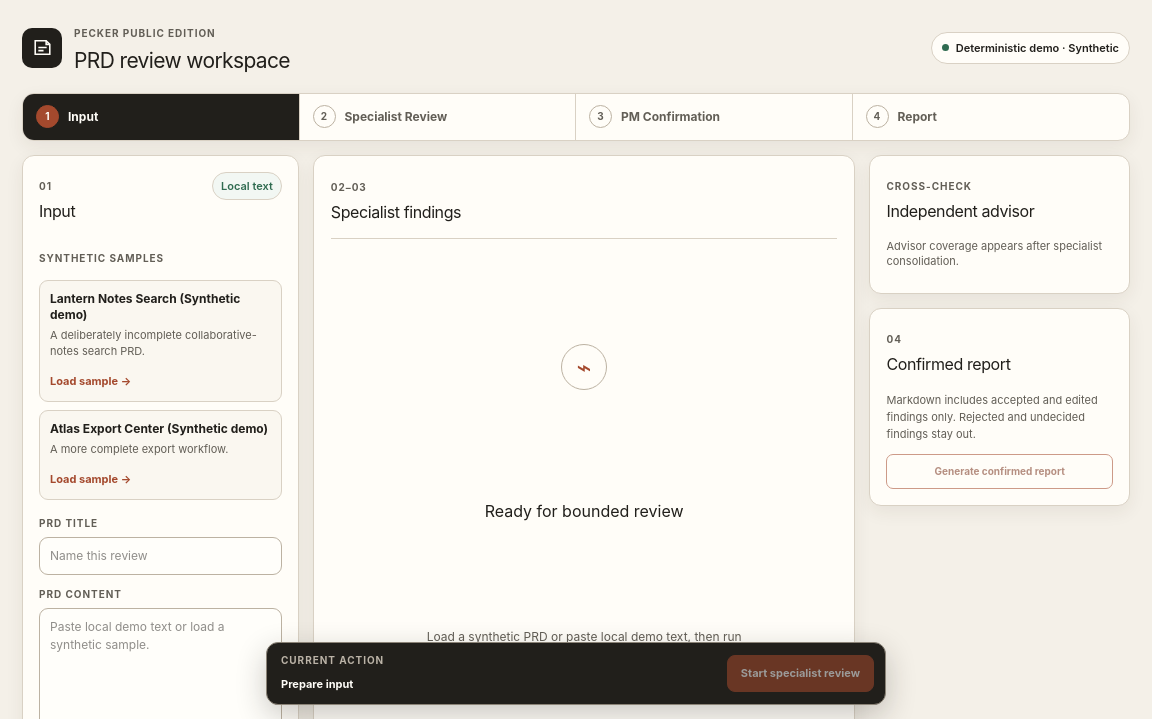
Test: ReviewWorkspace › shows edit failures inside the dialog without losing draft fields
Expected: the text "Lantern Notes Search (Synthetic demo)" is shown, left=50, top=290, right=271, bottom=323
Click the button with aria-label "load lantern notes search".
click(91, 381)  # box left=50, top=373, right=131, bottom=389
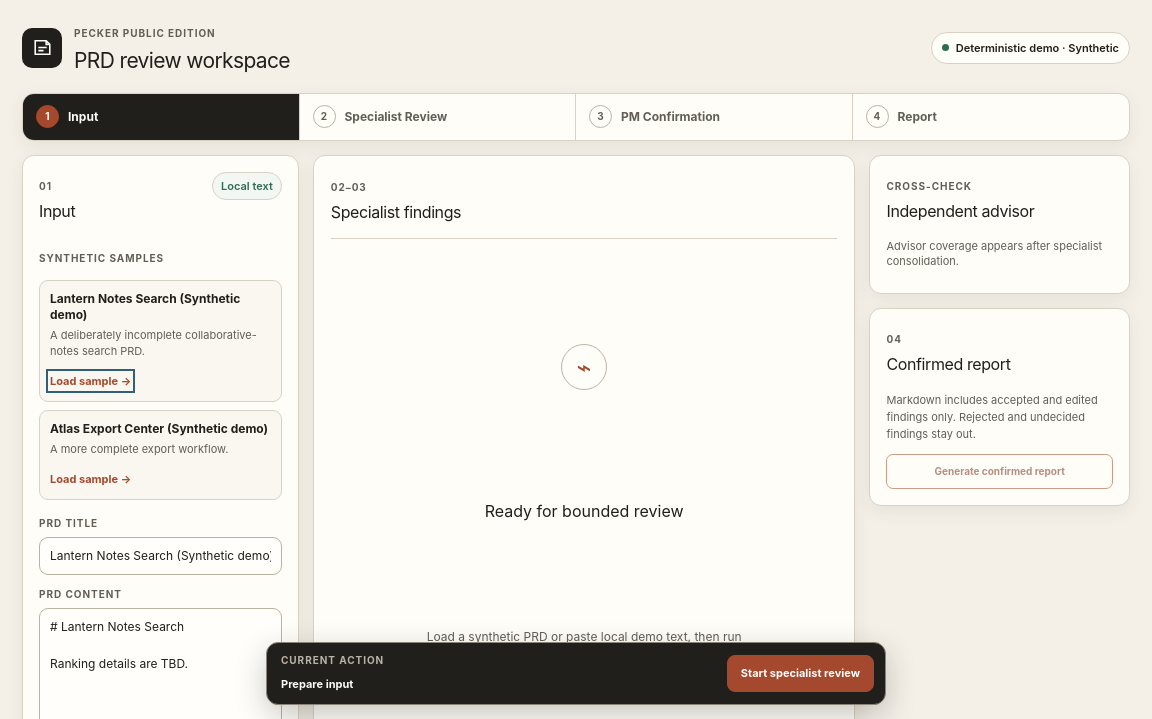
Click the button "Start specialist review".
click(800, 674)  # box left=727, top=655, right=874, bottom=692
(page scrolled)
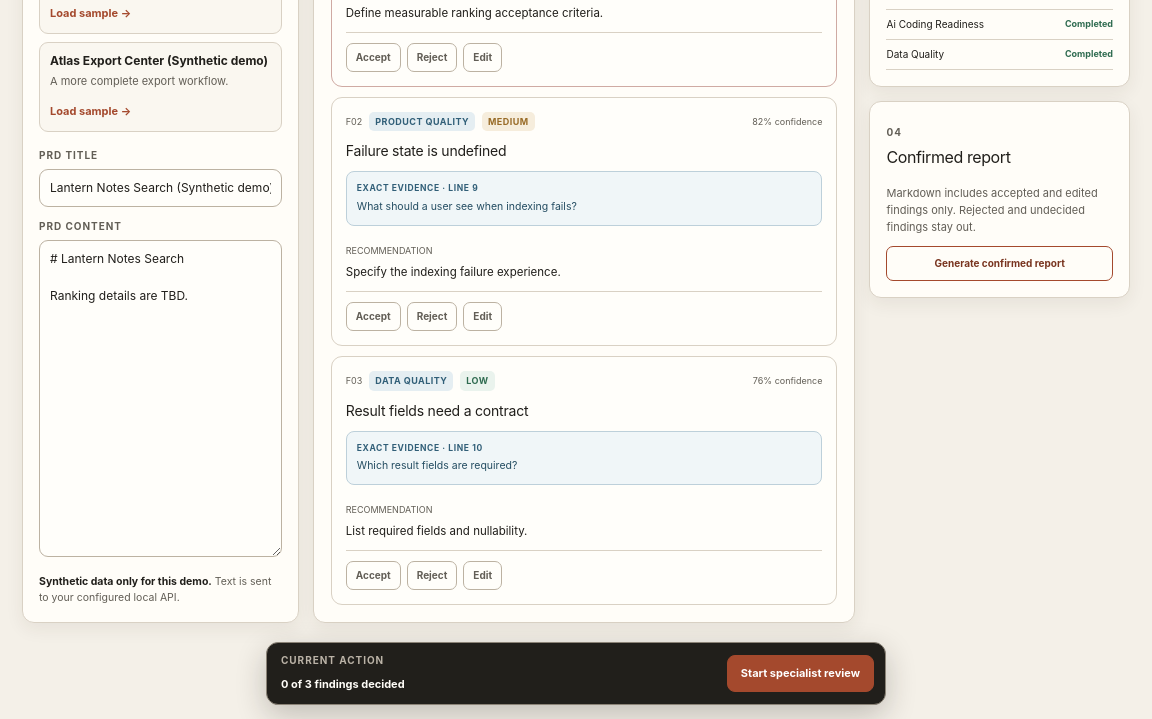
Click the button with aria-label "edit result fields need a contract".
click(483, 576)  # box left=463, top=561, right=502, bottom=590
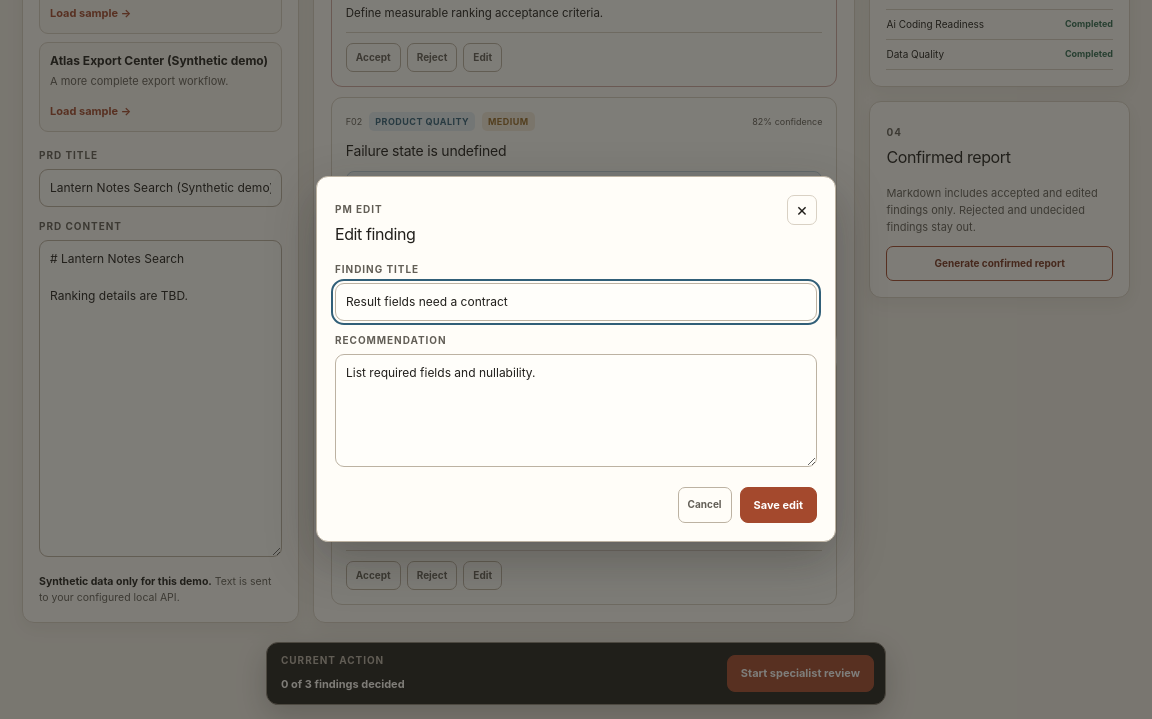
Replace the text in the field labelled "Finding title" with "Keep this draft title" at (576, 302), box left=335, top=283, right=817, bottom=321
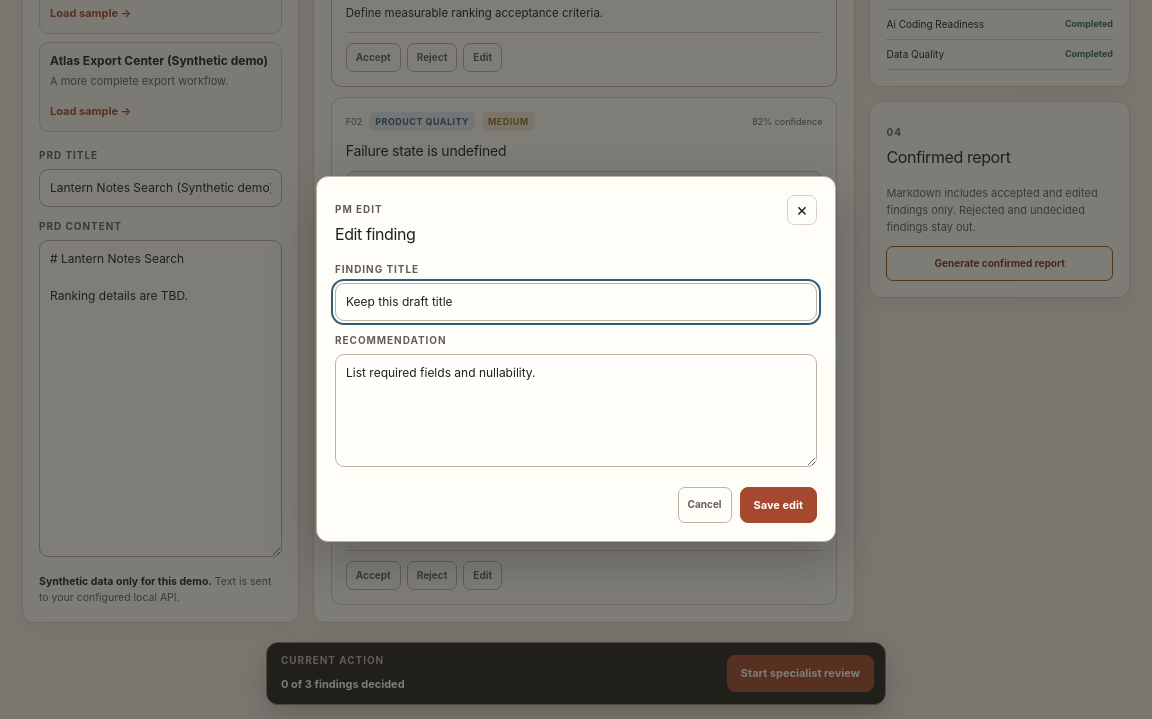
Replace the text in the text box labelled "Recommendation" with "Keep this draft recommendation." at (576, 410), box left=335, top=354, right=817, bottom=467
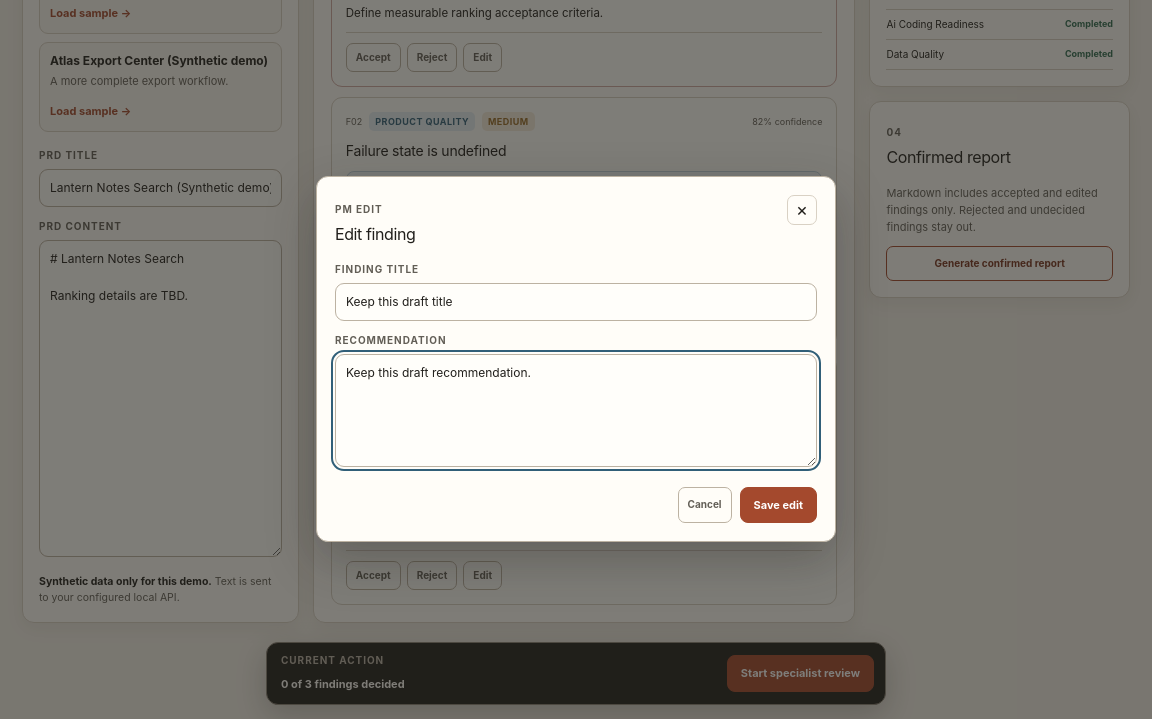
Click the button "Save edit".
click(778, 505)  # box left=740, top=487, right=817, bottom=523
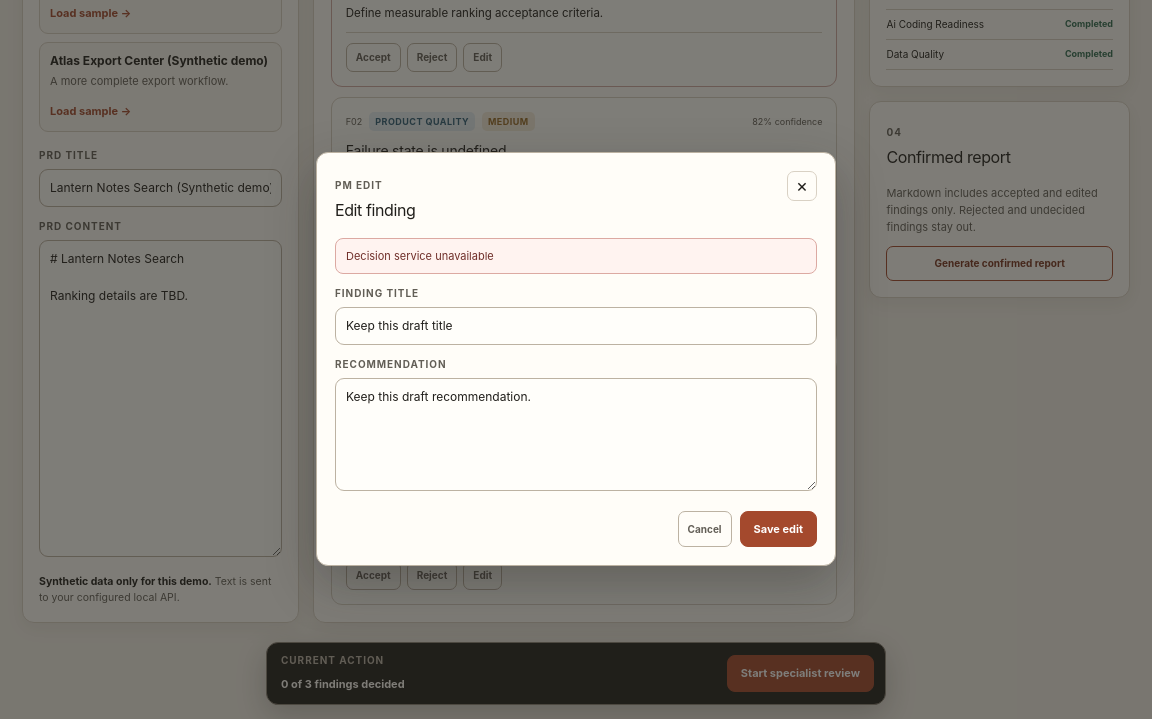
Expected: the dialog "Edit finding" is shown, left=316, top=152, right=836, bottom=566
Expected: the message reads "Decision service unavailable", left=346, top=248, right=494, bottom=262
